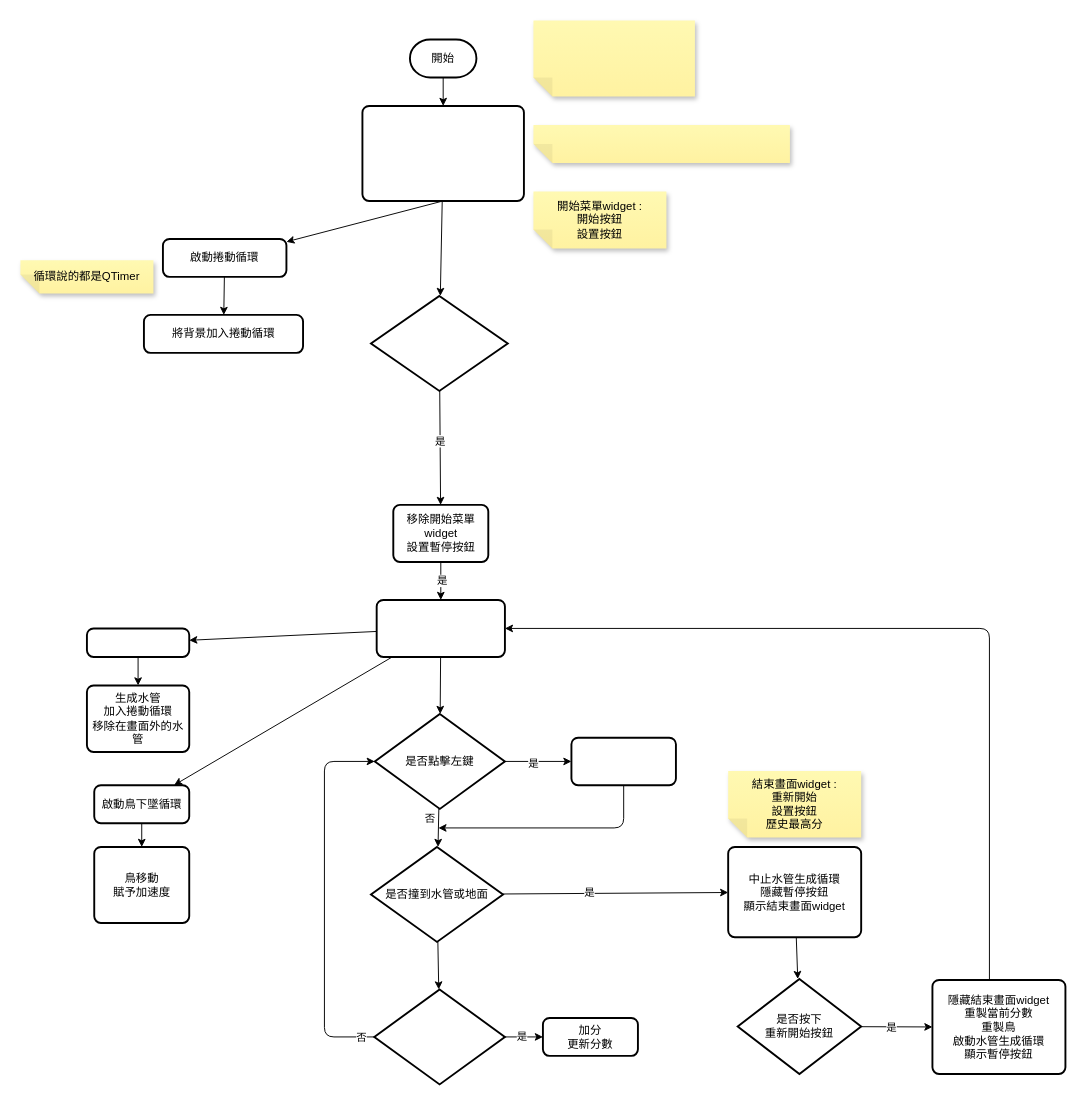
The diagram is 1082 pixels wide and 1101 high, and some of its shapes have lost their labels. Each missing label, with the centre of its shape:
GUI的更新與物件互動基於Qt自身事件循環，與遊戲線程獨立: [614,59]
widget : https://doc.qt.io/qt-6/qtwidgets-index.html: [662,145]
啟動水管生成循環: [138,642]
建立主視窗(288 x 512) 設置背景(地面) 設置鳥 設置開始菜單widget 連結主視窗與controller: [442,152]
是否按下開始按鈕: [439,342]
是否通過水管: [439,1036]
開始遊戲流程: [440,627]
鳥 速度設為向上: [623,761]
